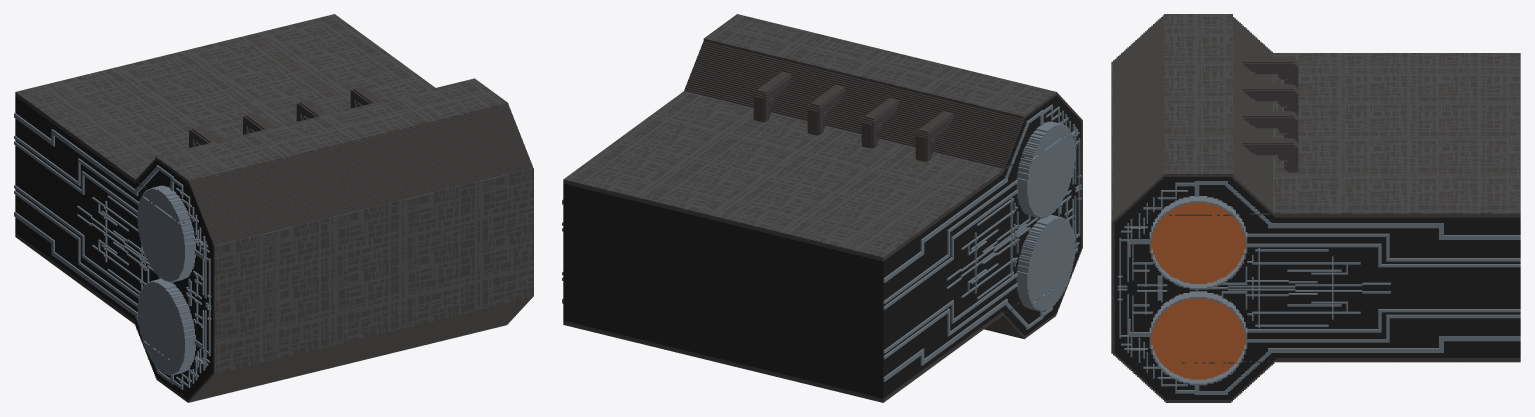
Rendered from Space ship-3.obj.
3 views of the same model, side by side, from view 1: azimuth 30°, elevation 25°; view 2: azimuth 150°, elevation 25°; view 3: azimuth 270°, elevation 25° (orthographic). The views are drawn at different scales.
Bounding box in the file's own units: 25.3 × 15.8 × 25.6.
1 material, 1 textured.
